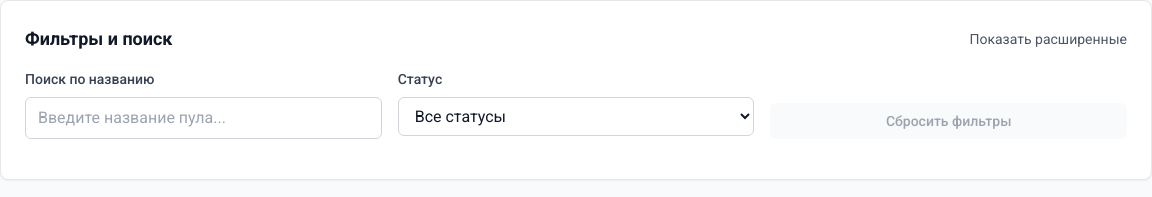
Test: MiningPoolsFilter › сбрасывает фильтры при клике на кнопку сброса
Применяем фильтр
Type "test" into the field with placeholder "Введите название пула...".
click(203, 118); type("test")  # box [25, 97, 382, 139]
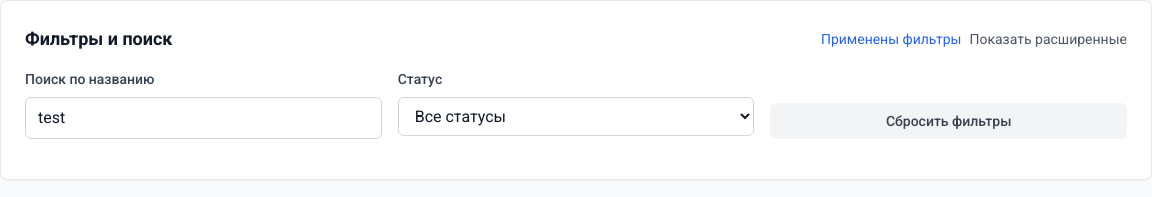
Select "Online" in the dropdown at (576, 116), box [398, 97, 754, 136]
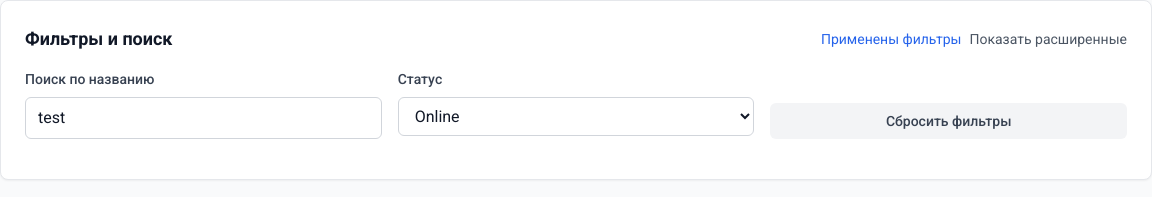
Сбрасываем фильтры
Click the button "Сбросить фильтры".
click(949, 121)  # box [770, 103, 1127, 139]
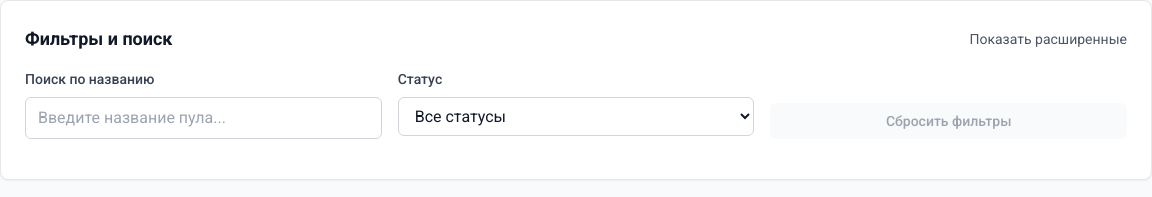
Now the field with placeholder "Введите название пула..." is empty, box [25, 97, 382, 139]
